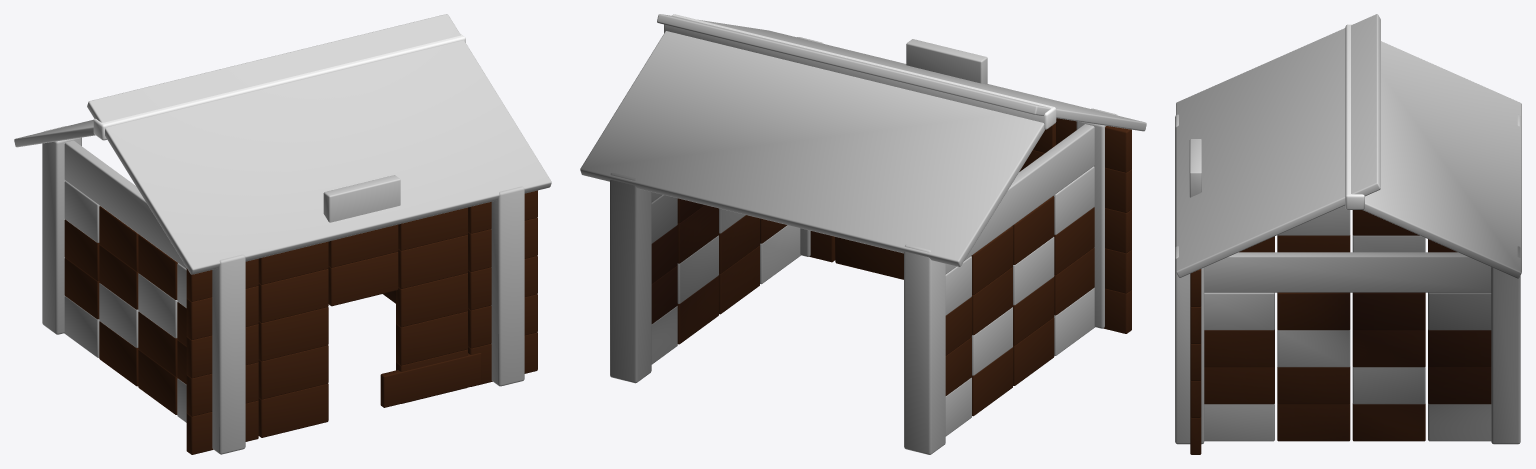
Rendered from abandoned-cabin.obj.
The picture shows the model from 3 angles, left to right: view 1: azimuth 30°, elevation 25°; view 2: azimuth 150°, elevation 25°; view 3: azimuth 270°, elevation 25°; orthographic projection. The views are drawn at different scales.
Visible parts, largest first — view 1: abandoned-cabin; view 2: abandoned-cabin; view 3: abandoned-cabin.
Part boxes in pixels (left/top/right/bottom): abandoned-cabin: left=14, top=14, right=551, bottom=454; abandoned-cabin: left=580, top=14, right=1146, bottom=454; abandoned-cabin: left=1175, top=14, right=1521, bottom=454.
Size of the model in its own units: 3.34 by 2.5 by 2.85.
